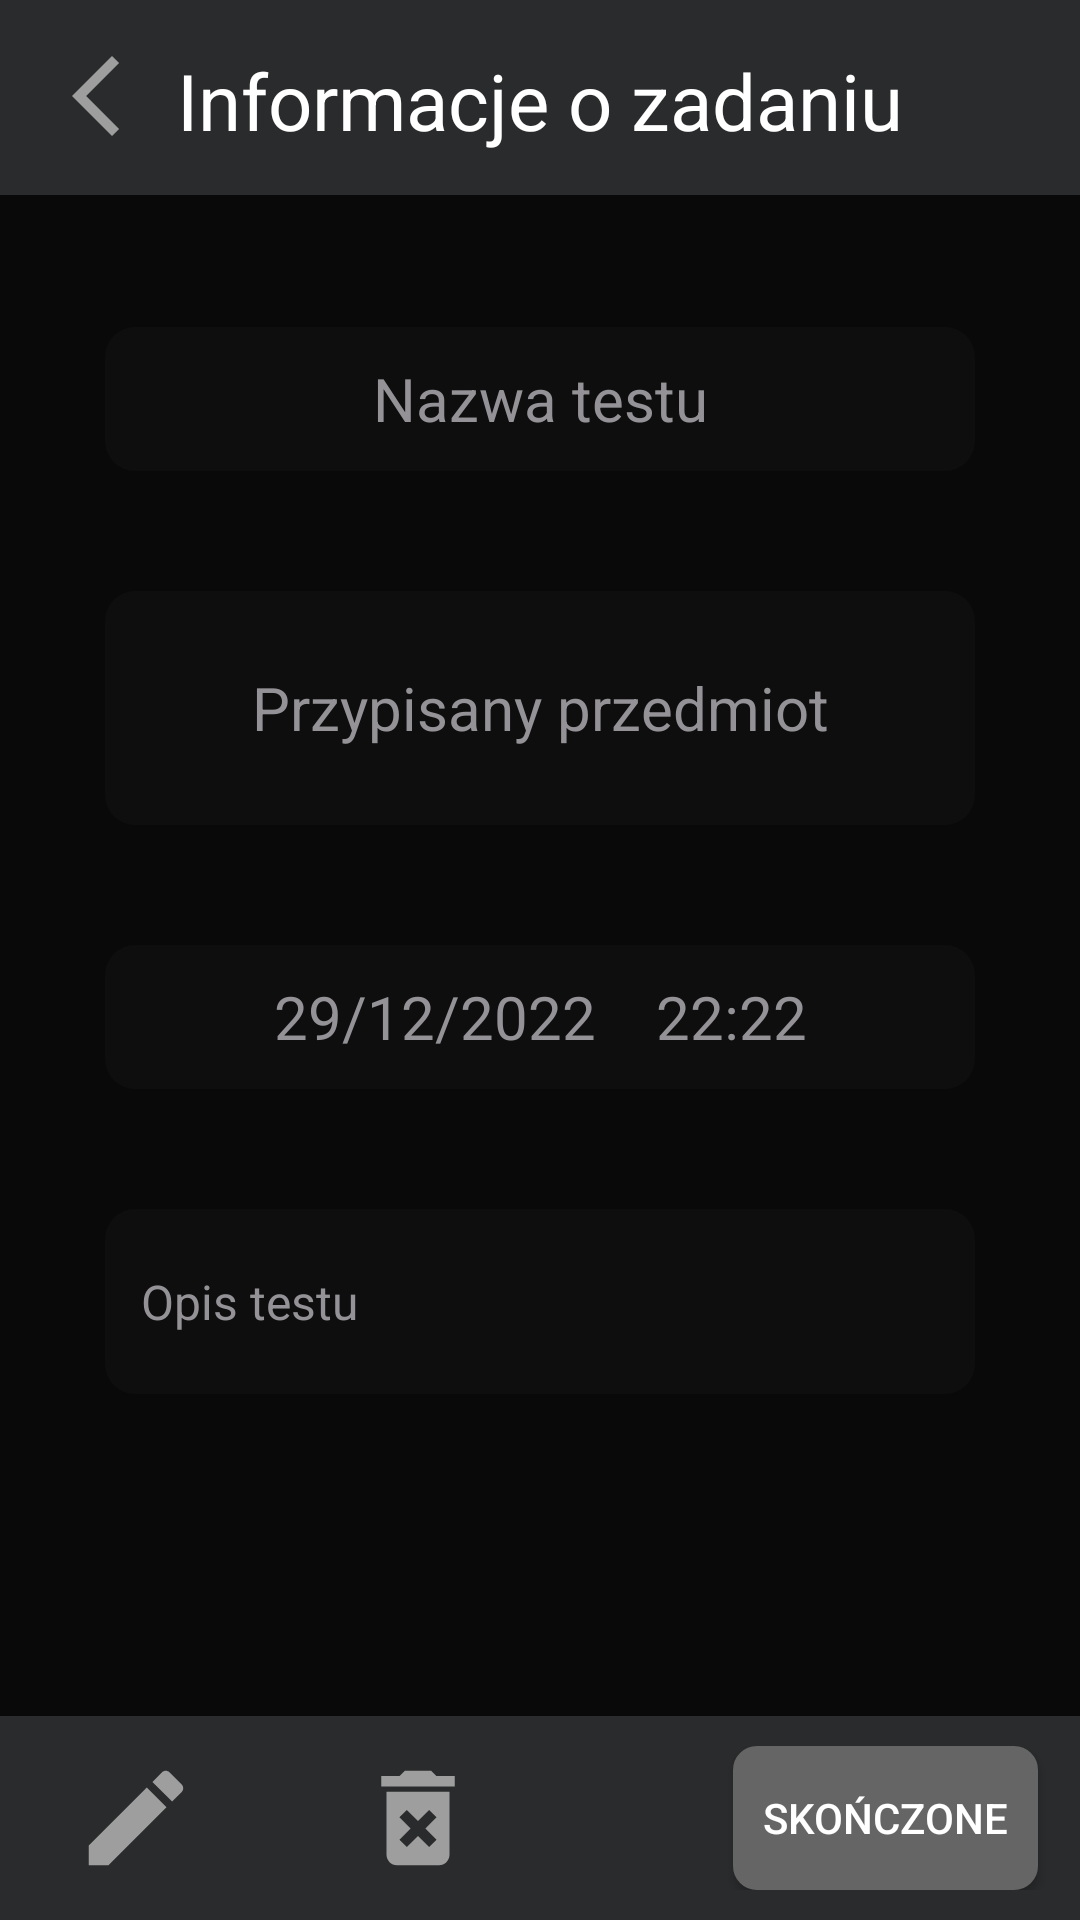

Where to tap for icons on this 1080 x 1920 app screen, as (x=x, y=y):
arrow back: (x=95, y=96)
delete: (x=418, y=1818)
edit: (x=135, y=1818)
